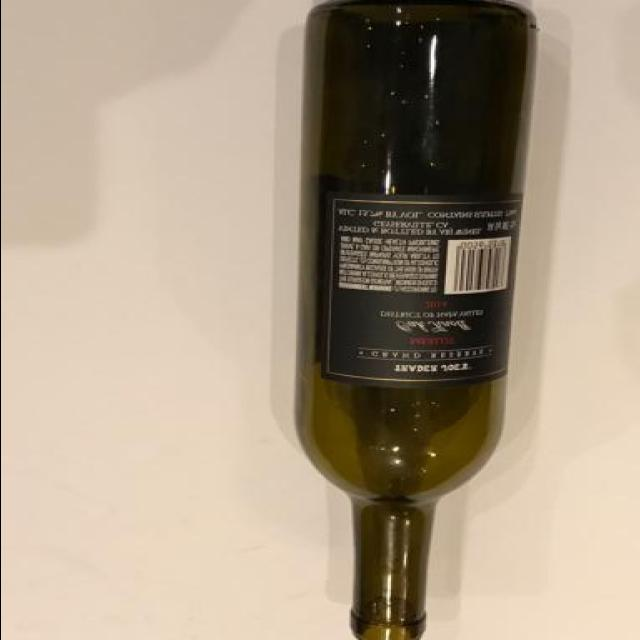glass: (312, 5, 542, 640)
